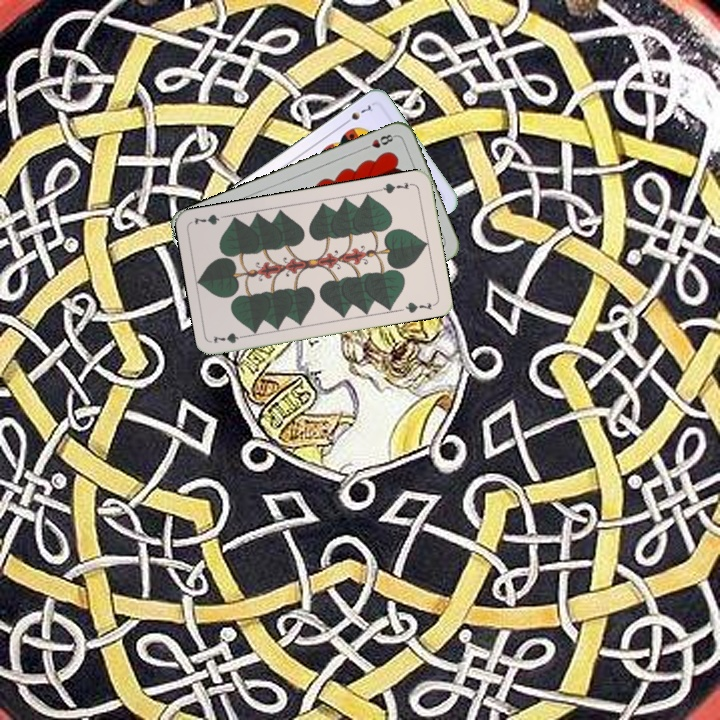G7: (375, 178, 416, 196), (210, 329, 251, 346)
H8: (359, 130, 398, 153)
S7: (339, 100, 376, 127)
